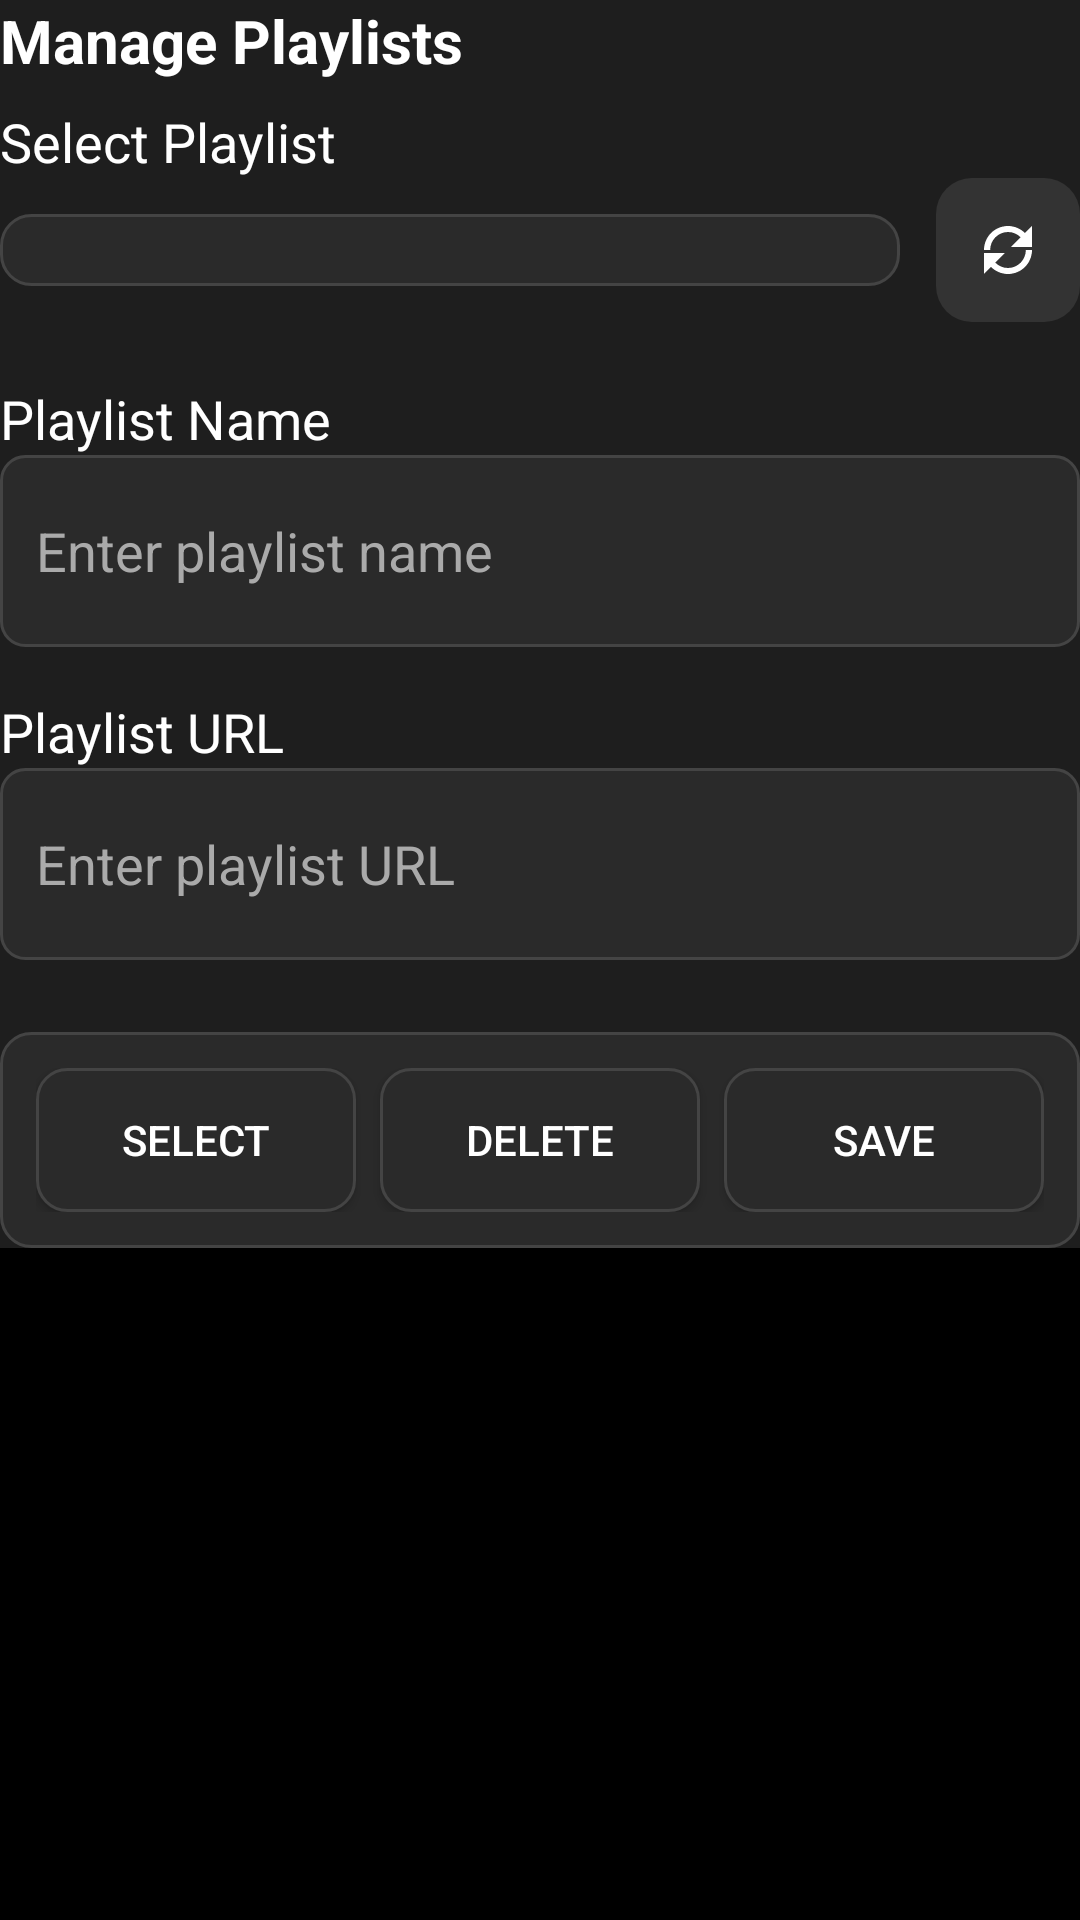

Locate icon controls on the screen. Image size 1080 × 1920, boxes as [x1, y1, x2, y2].
Refresh Playlist: [936, 178, 1080, 322]
